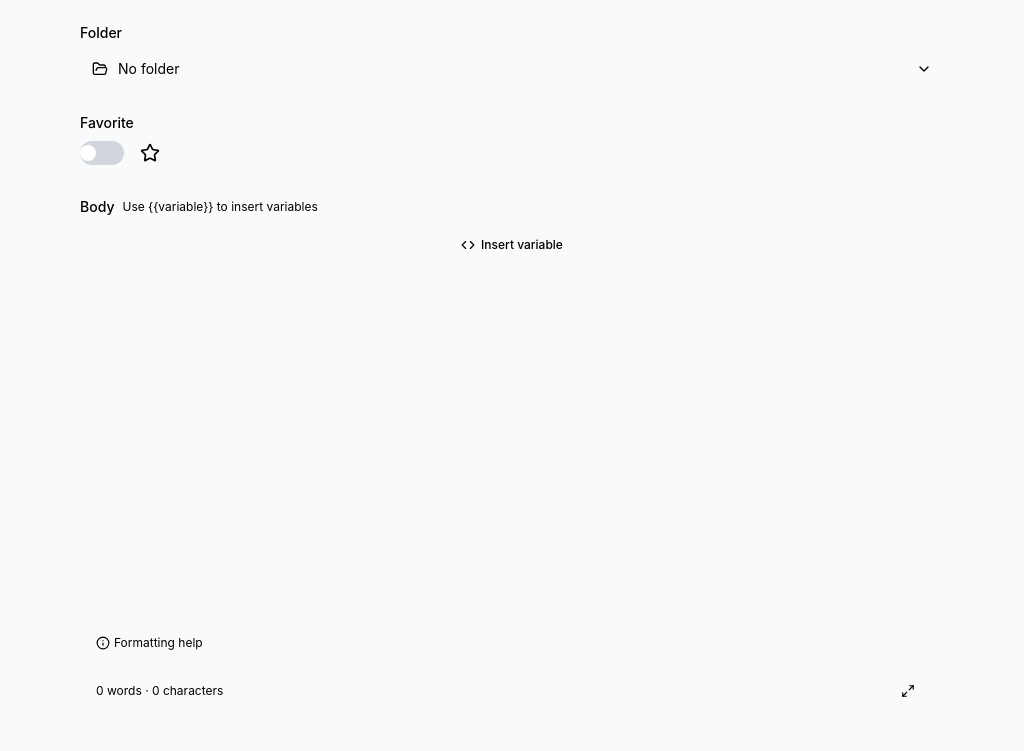
Test: PromptEditor › opens formatting help when Formatting help is clicked
(page scrolled)
Check: the text "Template formatting" is not shown
Click the button "Formatting help" at (158, 642), box [96,623,928,663]
(page scrolled)
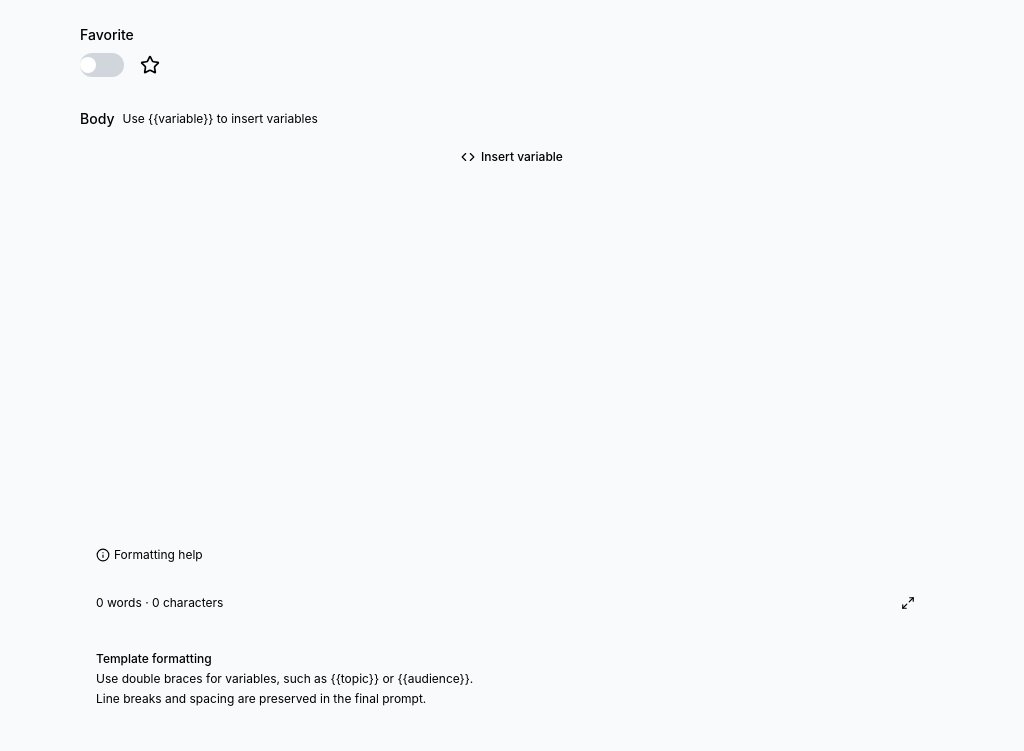
Check: the text "Template formatting" is shown, box [96,651,212,666]
